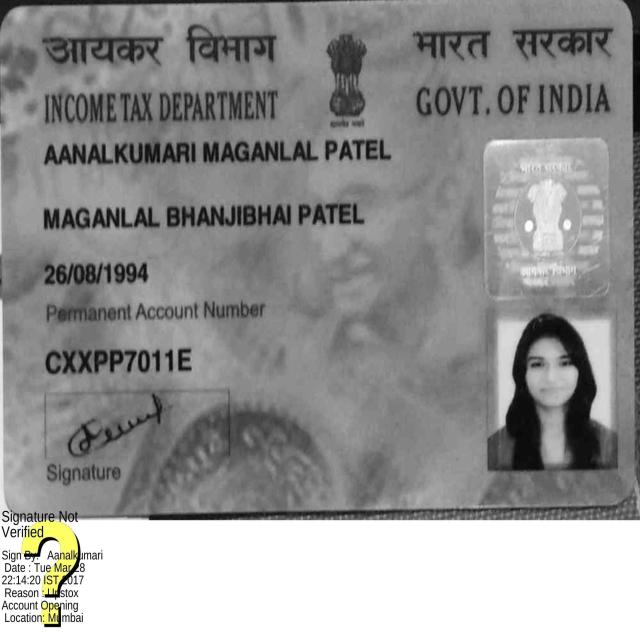pan_card: (8, 1, 629, 518)
